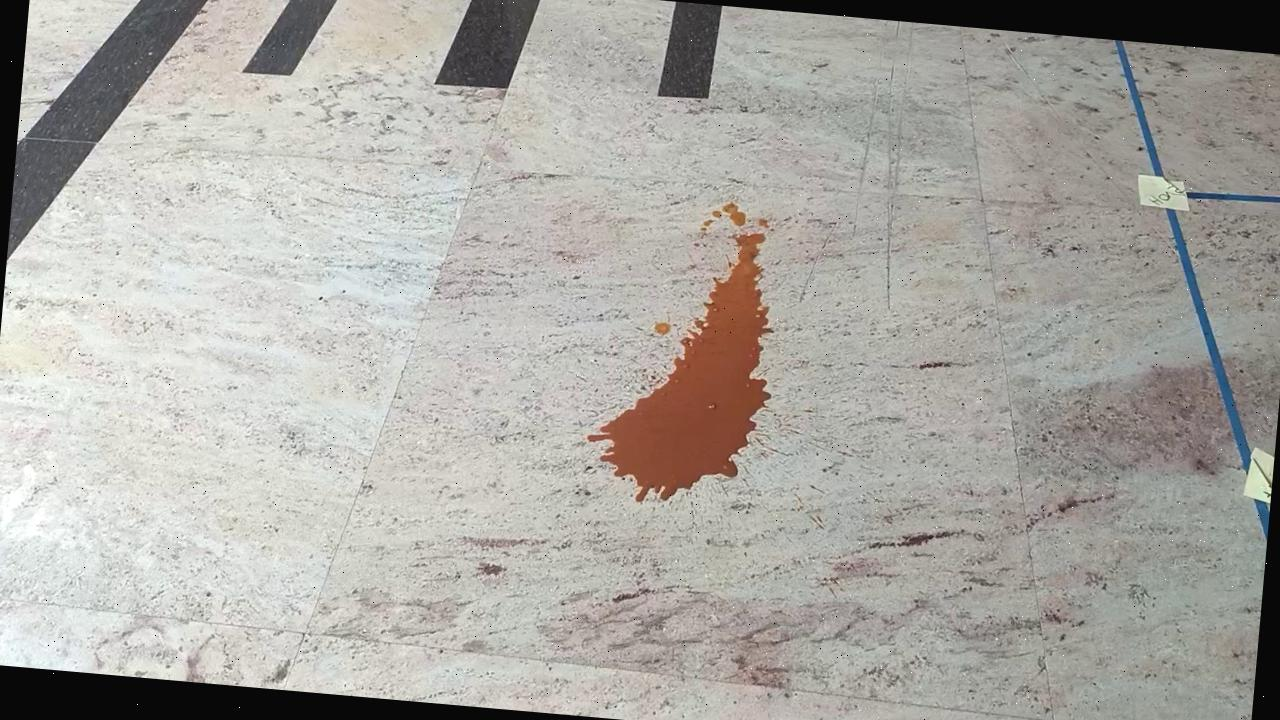dirty_floor: (582, 191, 789, 519)
